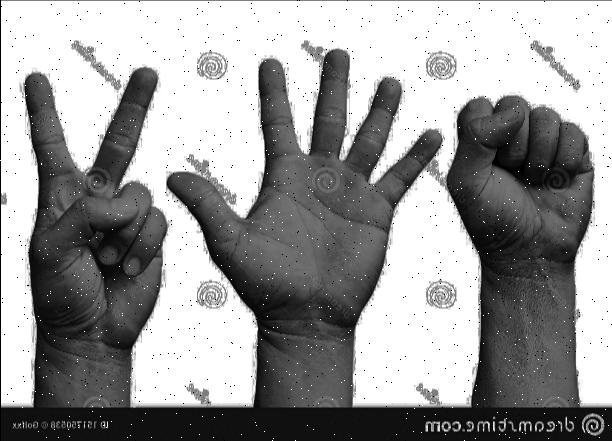Paper: (166, 46, 442, 324)
Rock: (438, 85, 597, 268)
Scissors: (14, 54, 166, 356)
